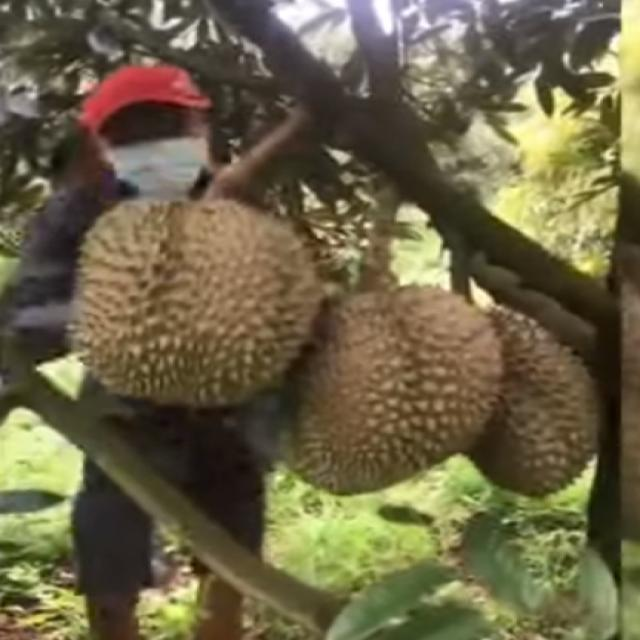mature: (68, 189, 322, 410), (271, 277, 507, 498), (442, 305, 605, 501)
